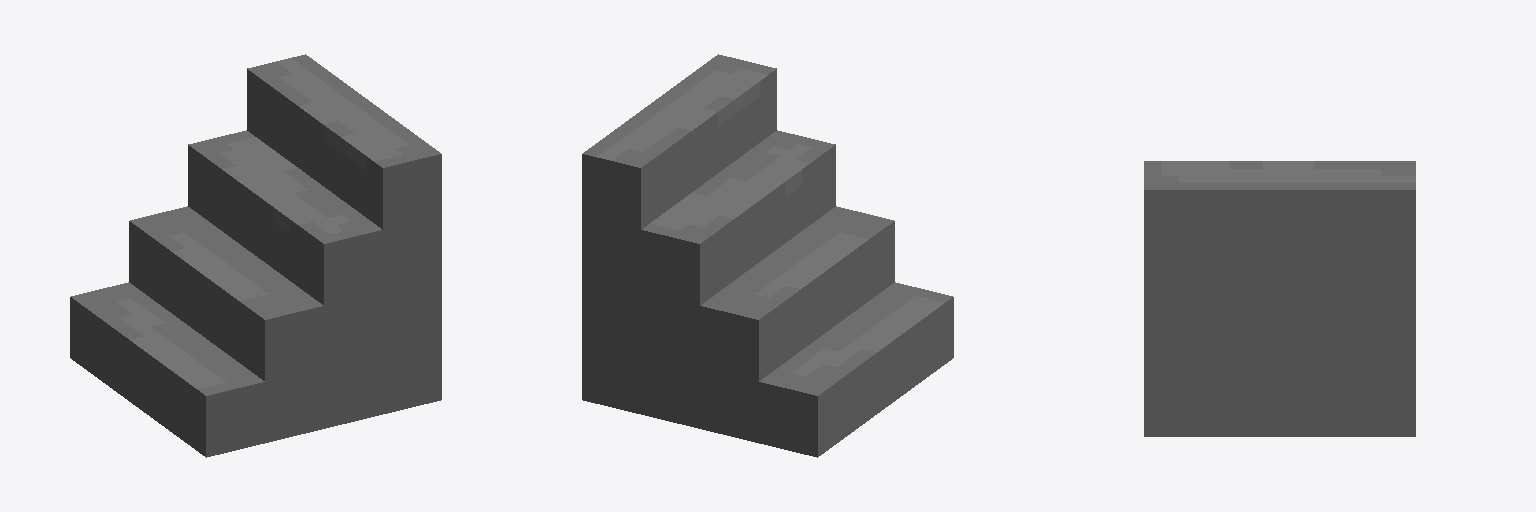
3 views of the same model, side by side, from view 1: azimuth 30°, elevation 25°; view 2: azimuth 150°, elevation 25°; view 3: azimuth 270°, elevation 25° (orthographic).
Parts seen in each view (by area): view 1: cube; view 2: cube; view 3: cube.
Boxes of the visible parts, box(x1,y1,x2,y2) form: cube: box(70, 54, 441, 457); cube: box(582, 54, 953, 457); cube: box(1144, 161, 1415, 436).
Size of the model in its own units: 1 by 1 by 1.
1 materials, 1 textured.